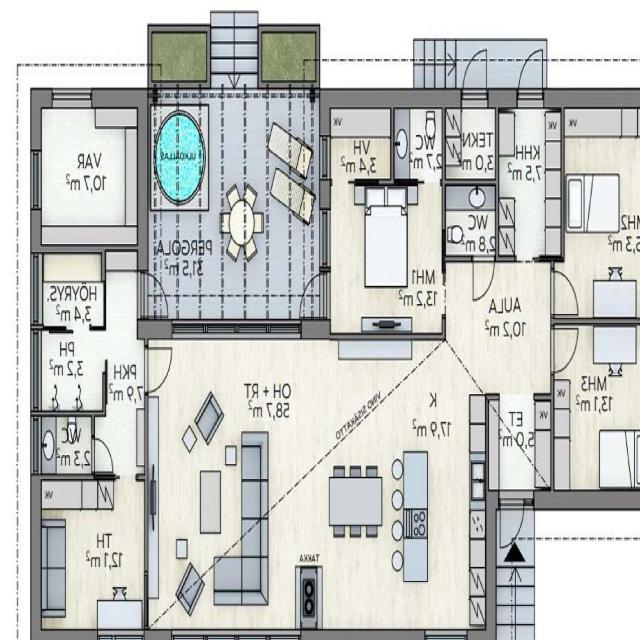door: (518, 44, 543, 108), (463, 44, 487, 108), (296, 275, 331, 317), (137, 273, 171, 316), (500, 489, 523, 550), (145, 348, 172, 392), (551, 272, 577, 314), (551, 329, 577, 370), (474, 256, 494, 299), (92, 438, 113, 472)
